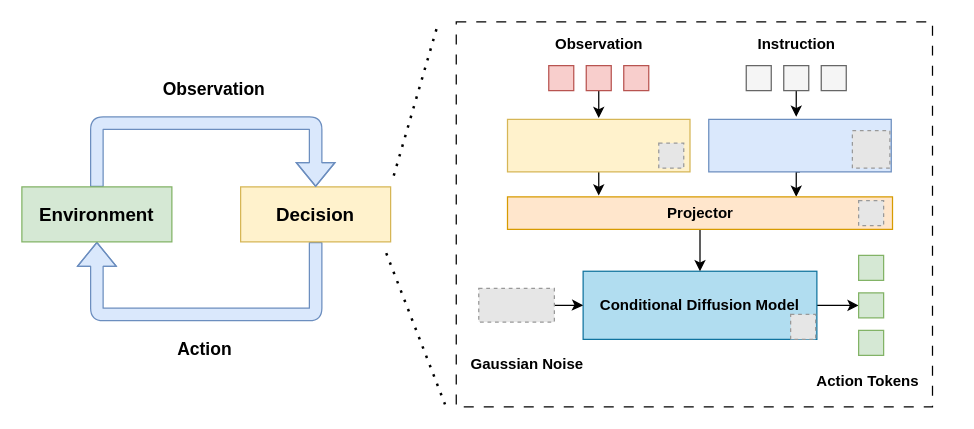
This 974x429 diagram has some shape labels left out. Grey dashed boxes stand in for pictures. Here are the shapes that lost their labels. From the top down, the box of each, then its label:
(506, 118, 690, 172): Vision Encoder
(708, 118, 891, 172): LLM
